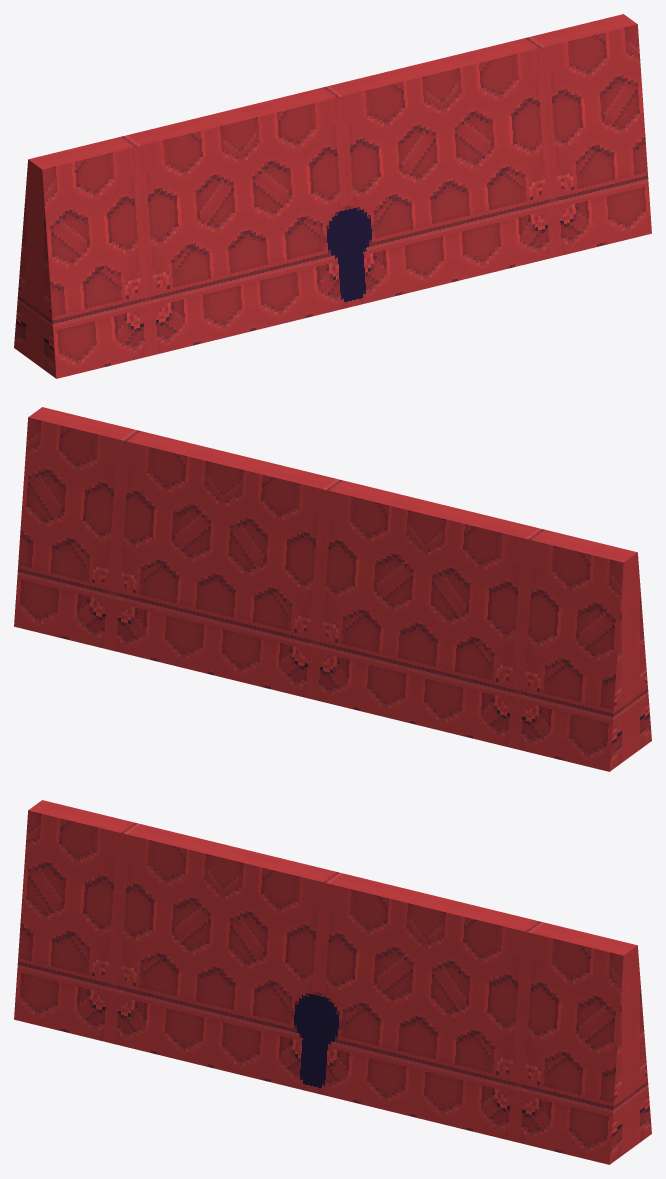
The model's file is Gate.fbx.
3 views of the same model, one above another, from view 1: azimuth 30°, elevation 25°; view 2: azimuth 150°, elevation 25°; view 3: azimuth 330°, elevation 25° (orthographic).
Visible parts, largest first — view 1: Cube; view 2: Cube; view 3: Cube.
Part boxes in pixels (left/top/right/bottom): Cube: left=14, top=14, right=651, bottom=378; Cube: left=14, top=407, right=651, bottom=771; Cube: left=14, top=800, right=651, bottom=1164.
Size of the model in its own units: 2.95 by 0.9402 by 0.3636.
